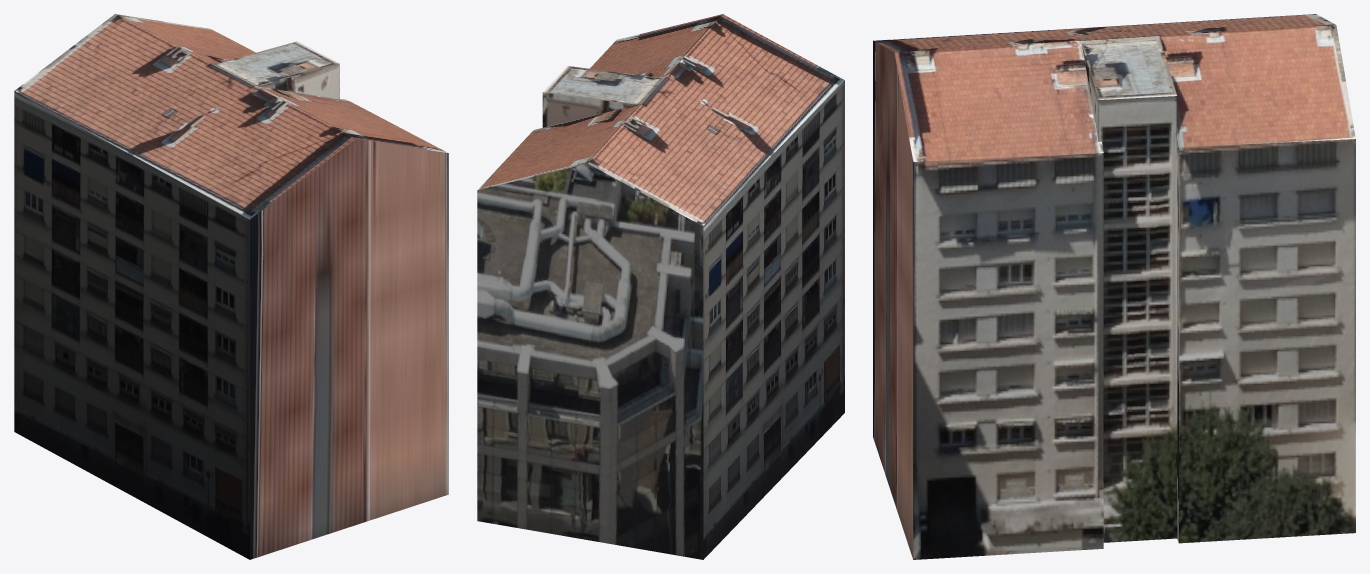
The picture shows the model from 3 angles, left to right: view 1: azimuth 30°, elevation 25°; view 2: azimuth 150°, elevation 25°; view 3: azimuth 270°, elevation 25°; orthographic projection. The views are drawn at different scales.
Visible parts, largest first — view 1: Z_UP; view 2: Z_UP; view 3: Z_UP.
Boxes of the visible parts, <box> form: Z_UP: <box>14,14,448,559</box>; Z_UP: <box>477,14,844,559</box>; Z_UP: <box>873,14,1355,559</box>.
Size of the model in its own units: 17.46 by 24.65 by 23.95.
2 materials, 1 textured.
